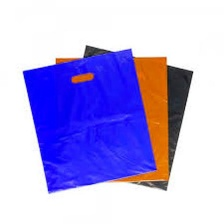plastic_bag: (16, 47, 160, 195), (75, 42, 195, 194), (49, 51, 174, 186)
